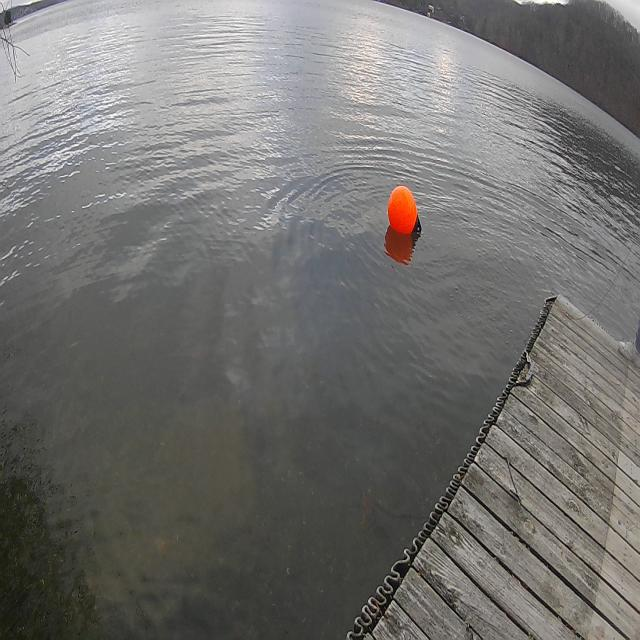Buoy: (386, 184, 418, 239)
